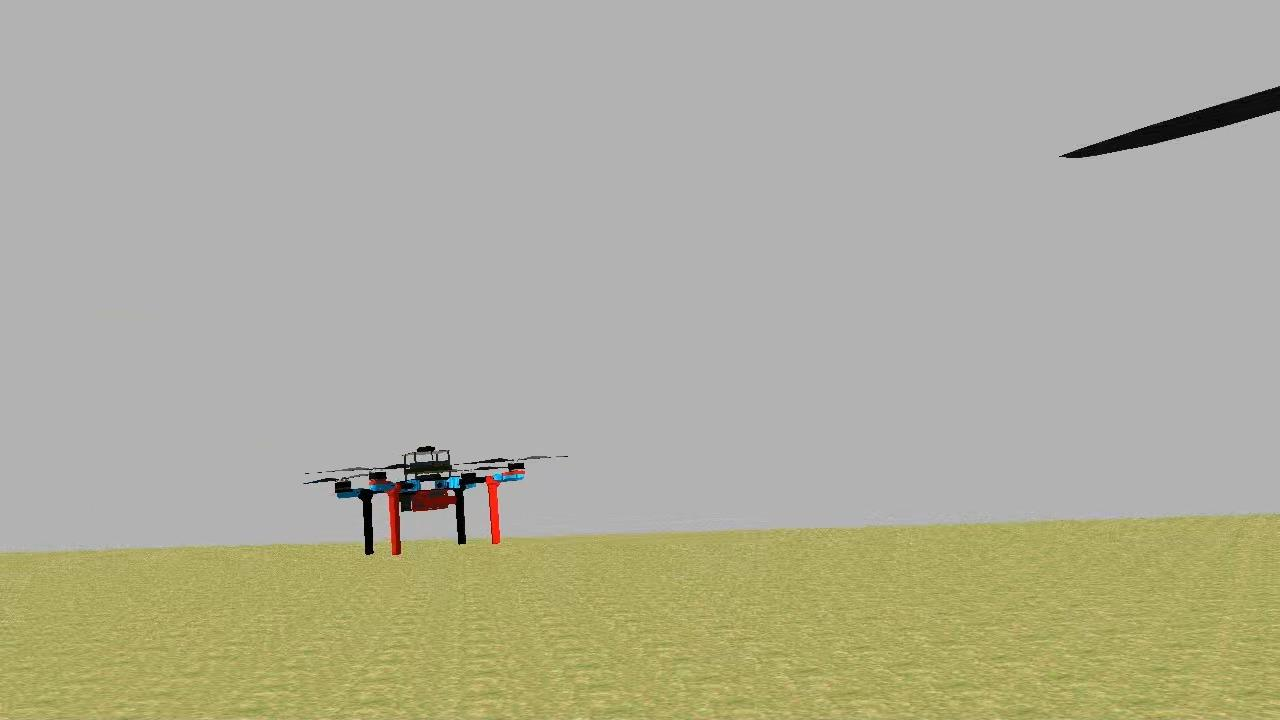UAV: (330, 442, 532, 562)
